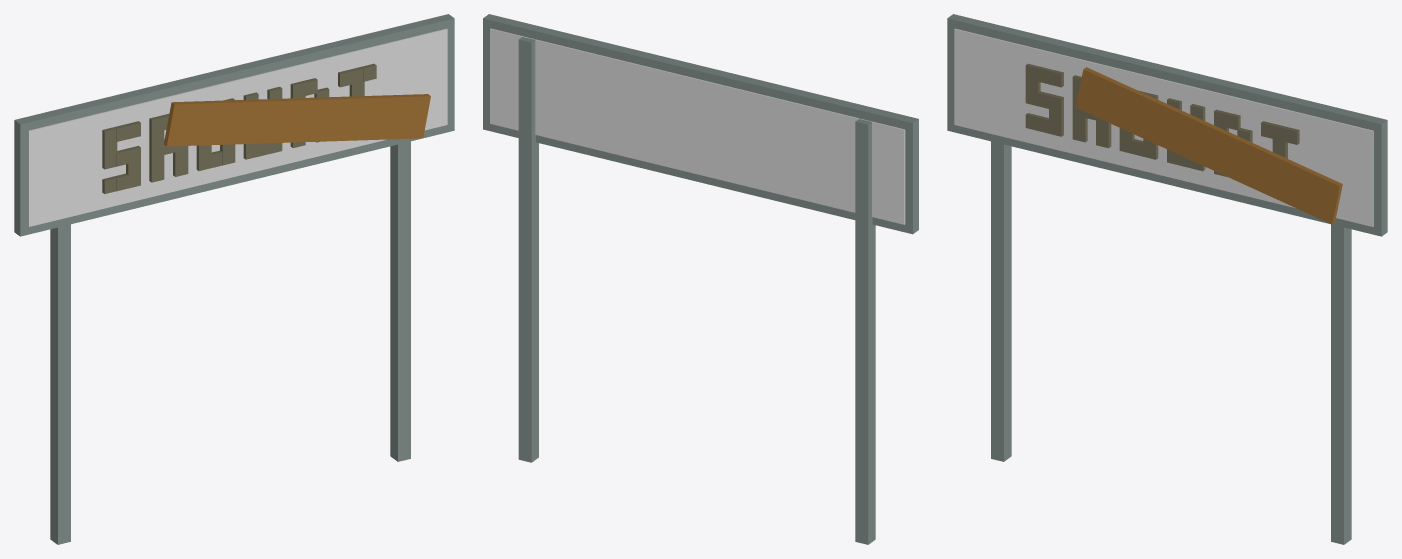
The model's file is SM_CartelEstacion_v4_Tapado_LOD0.fbx.
3 views of the same model, side by side, from view 1: azimuth 30°, elevation 25°; view 2: azimuth 150°, elevation 25°; view 3: azimuth 330°, elevation 25° (orthographic).
Visible parts, largest first — view 1: SM_cartel_estacion_v4_LOD0; view 2: SM_cartel_estacion_v4_LOD0; view 3: SM_cartel_estacion_v4_LOD0.
Part boxes in pixels (x1,y1,x2,y2): SM_cartel_estacion_v4_LOD0: (14, 14, 454, 544); SM_cartel_estacion_v4_LOD0: (483, 14, 918, 544); SM_cartel_estacion_v4_LOD0: (947, 14, 1387, 544).
Bounding box in the file's own units: 3.32 × 3.16 × 0.26.
